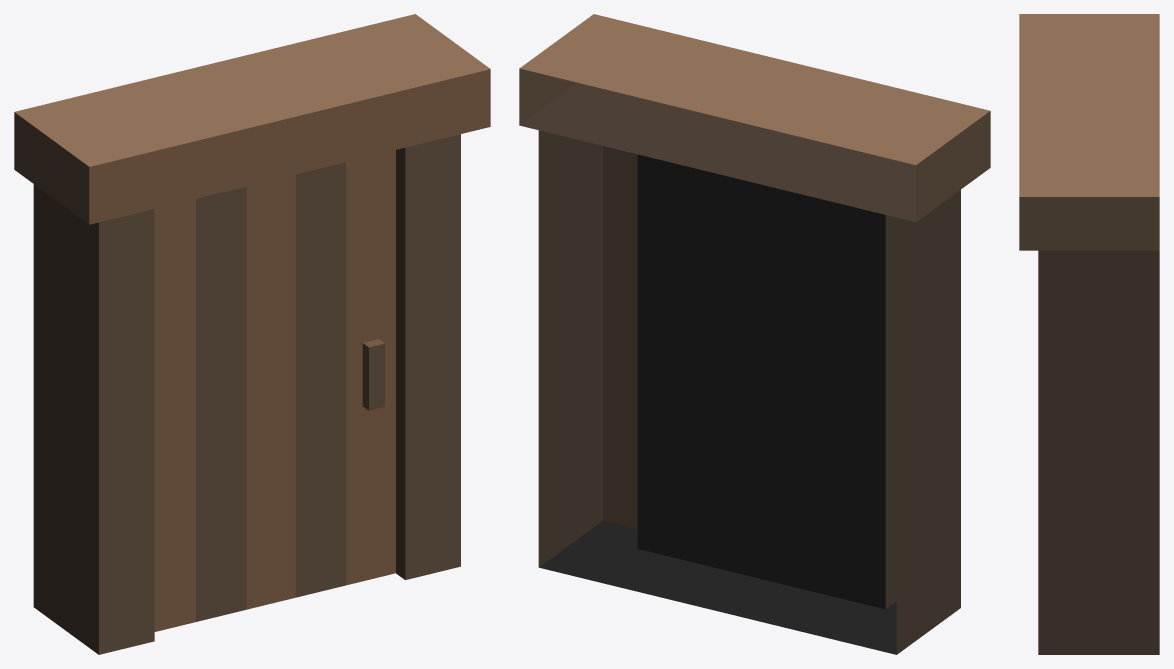
Rendered from TB_D_Bd_SRoof_DoorSet_A.FBX.
3 renders of one model, left to right at view 1: azimuth 30°, elevation 25°; view 2: azimuth 150°, elevation 25°; view 3: azimuth 270°, elevation 25°, orthographic. The views are drawn at different scales.
Parts seen in each view (by area): view 1: TB_D_Bd_SRoof_DoorSet_A, TB_D_Bd_SRoof_Door_A; view 2: TB_D_Bd_SRoof_DoorSet_A; view 3: TB_D_Bd_SRoof_DoorSet_A.
Part boxes in pixels (bbox=[...]): TB_D_Bd_SRoof_DoorSet_A: bbox=[14, 14, 490, 654]; TB_D_Bd_SRoof_Door_A: bbox=[154, 150, 395, 631]; TB_D_Bd_SRoof_DoorSet_A: bbox=[519, 14, 990, 654]; TB_D_Bd_SRoof_DoorSet_A: bbox=[1019, 14, 1159, 654].
Bounding box in the file's own units: 1.44 × 1.71 × 0.4679.
